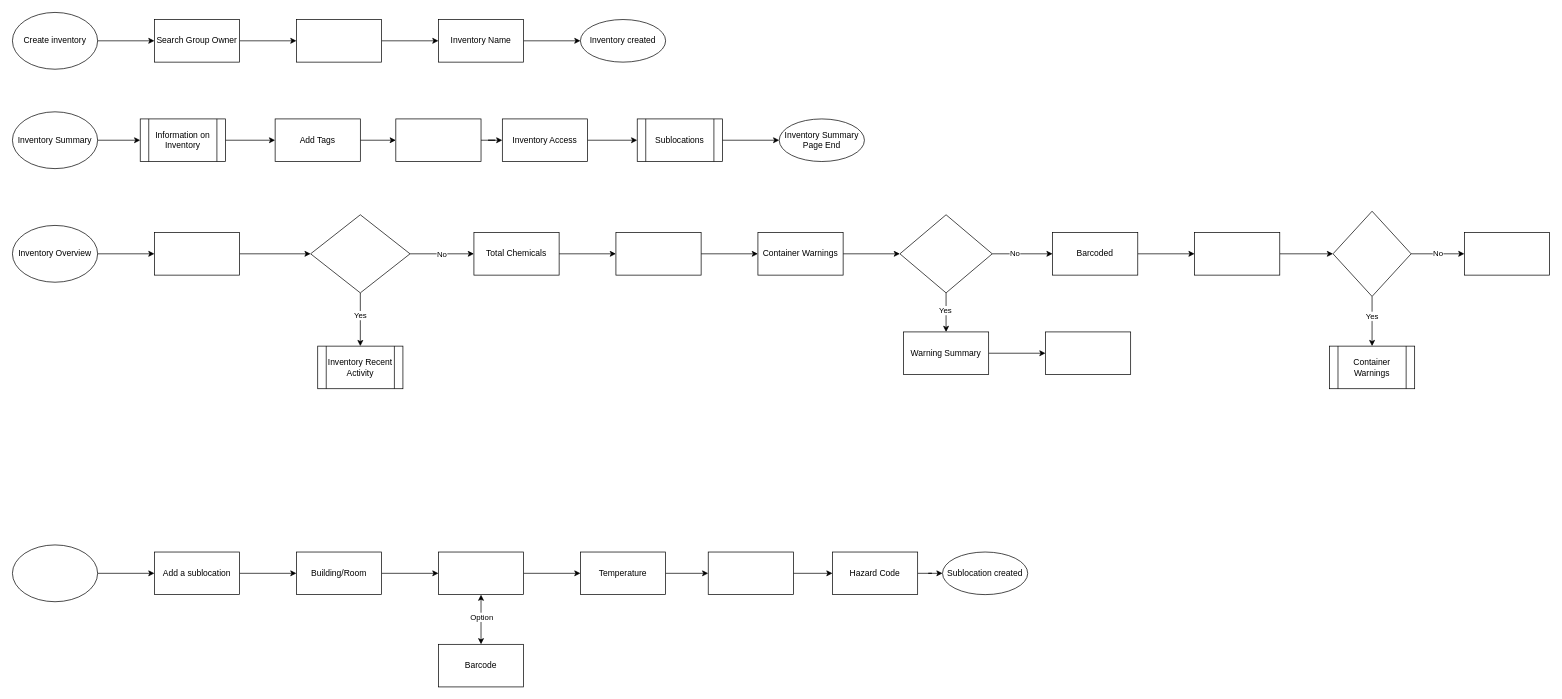
The diagram is 1562 pixels wide and 699 high, and some of its shapes have lost their labels. The shapes that lost their labels are listed below. From the top down, each one's box as (x1, y1, x2, y2) in pixels, then its label:
(296, 19, 382, 62): Owner Name
(395, 118, 481, 162): Add Colleagues
(154, 232, 240, 275): View Recent Activity
(310, 214, 410, 293): Do you want to view recent activity?
(615, 232, 701, 275): Total Containers
(899, 214, 992, 293): Do you want to view container warnings?
(1194, 232, 1280, 275): Missing Barcode
(1332, 211, 1411, 296): Do you want to view Missing Barcode?
(1045, 331, 1131, 375): Containers needing Attention
(12, 544, 98, 602): Sublocations create
(438, 551, 524, 595): Name
(708, 551, 793, 595): Pressure
